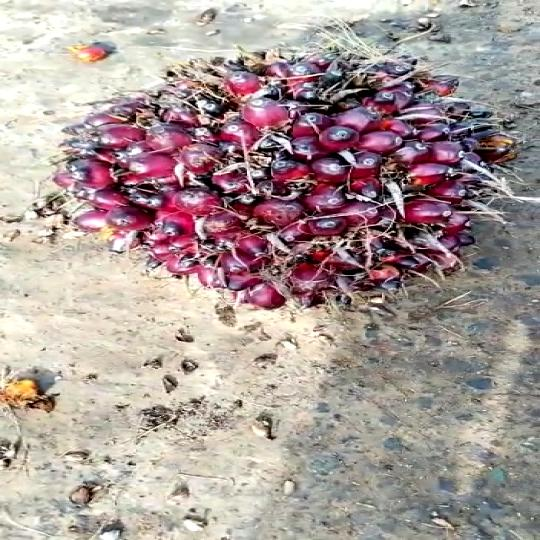masak: (48, 48, 514, 311)
